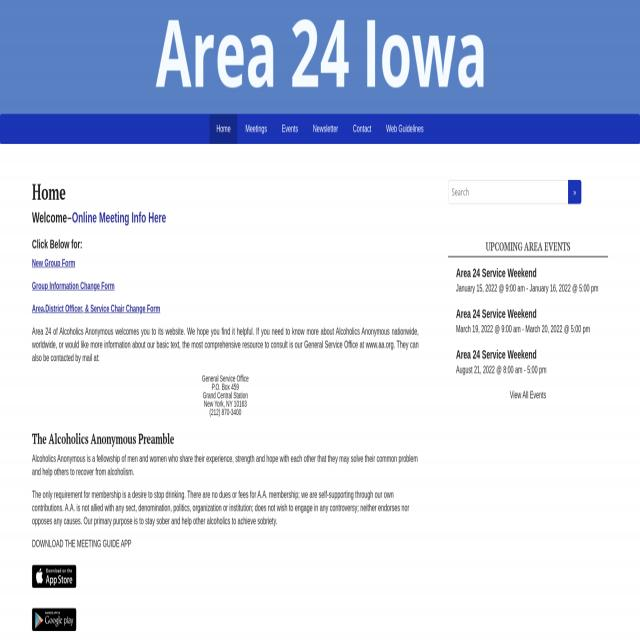button: (380, 114, 430, 144), (306, 114, 345, 144), (238, 114, 274, 144), (32, 565, 76, 588), (346, 114, 378, 144), (32, 609, 76, 630), (275, 114, 305, 144), (210, 114, 238, 143), (568, 179, 581, 204)
field: (448, 180, 568, 205)
